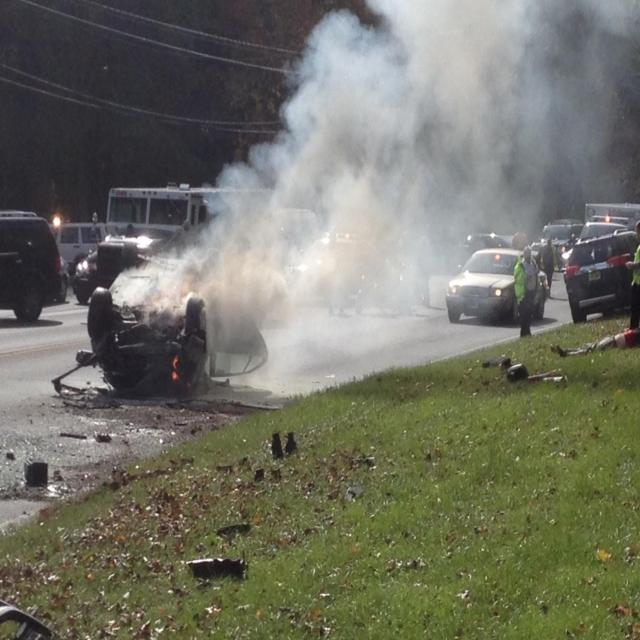severe: (83, 247, 221, 395)
